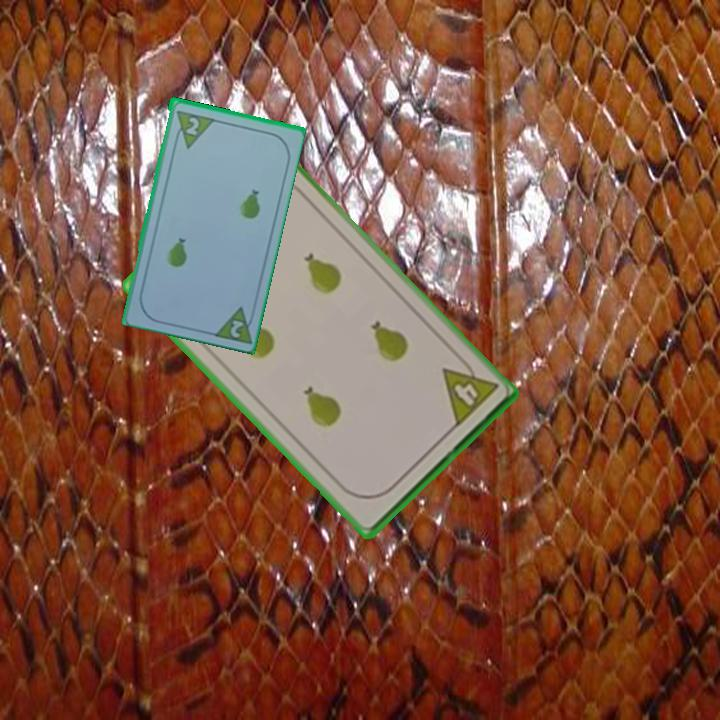2p: (208, 302, 258, 345), (170, 106, 215, 151)
4p: (438, 352, 501, 431)
